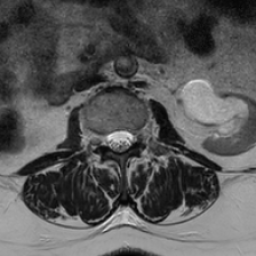CCS_normal: (114, 121, 124, 160)
LFS_normal: (133, 118, 143, 154)
LLS_normal: (124, 124, 133, 154)
RFS_normal: (96, 124, 105, 152)
RLS_normal: (105, 124, 114, 152)
